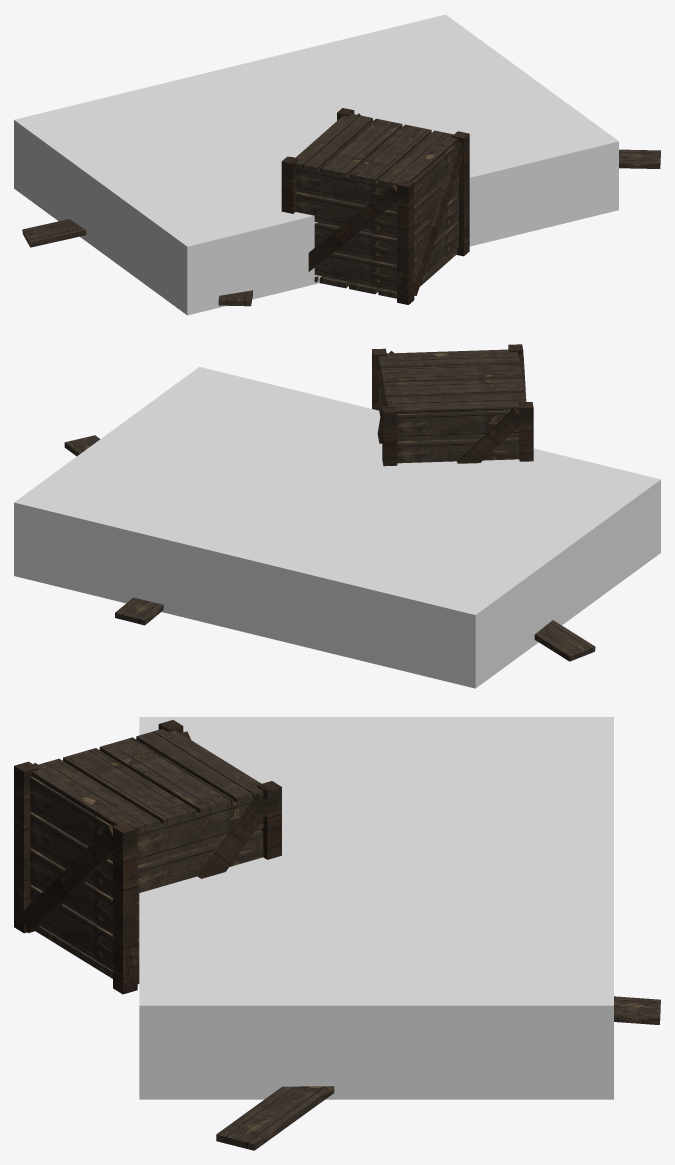
Rendered from crate_stack_broken.glb.
3 renders of one model, top to bottom at view 1: azimuth 30°, elevation 25°; view 2: azimuth 150°, elevation 25°; view 3: azimuth 270°, elevation 25°, orthographic. The views are drawn at different scales.
Visible parts, largest first — view 1: col_click, crate_stack_broken; view 2: col_click, crate_stack_broken; view 3: col_click, crate_stack_broken.
Part boxes in pixels (x1,y1,x2,y2): col_click: (14, 14, 618, 315); crate_stack_broken: (22, 108, 660, 306); col_click: (14, 367, 660, 688); crate_stack_broken: (64, 344, 595, 661); col_click: (139, 717, 613, 1099); crate_stack_broken: (14, 720, 660, 1150).
Bounding box in the file's own units: 3 × 0.6417 × 2.18.
3 materials, 3 textured.
